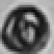correct: (0, 4, 52, 54)
